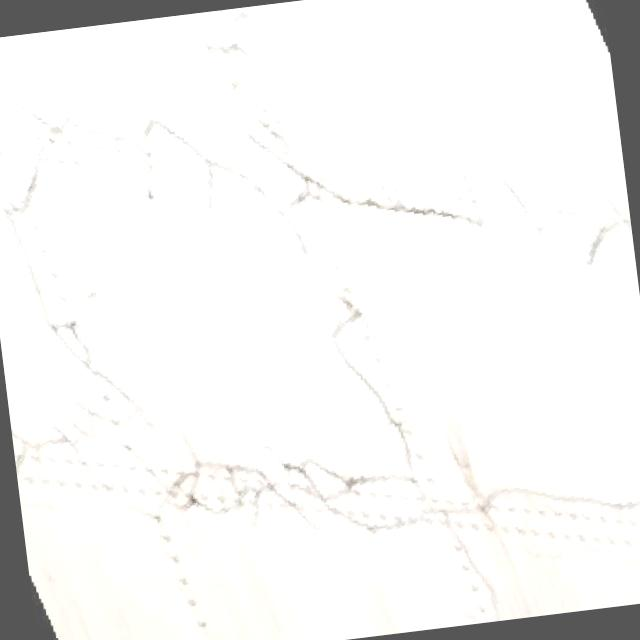crack: (0, 19, 631, 347), (188, 0, 505, 640), (12, 351, 640, 624), (0, 24, 178, 534)
